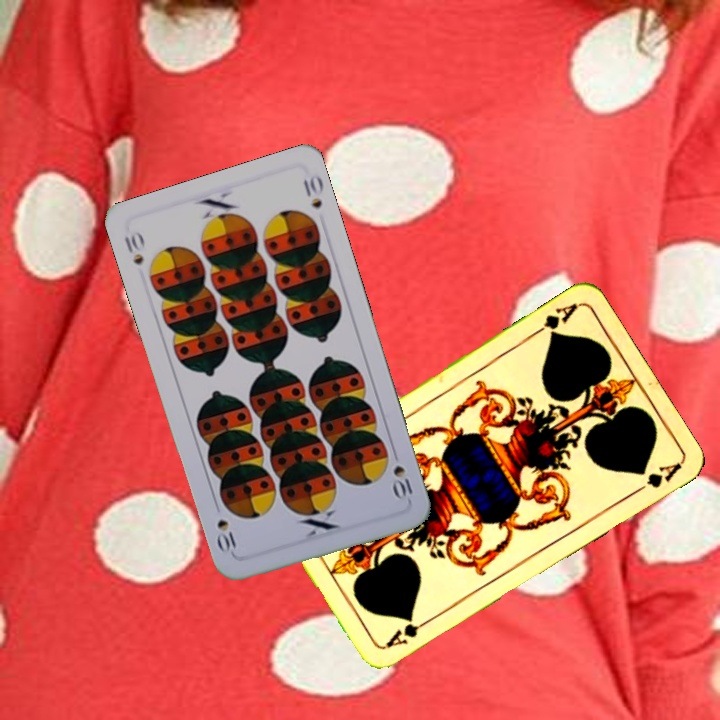GA: (528, 299, 580, 339), (381, 613, 435, 651)
S10: (388, 445, 417, 503), (120, 228, 147, 268)
